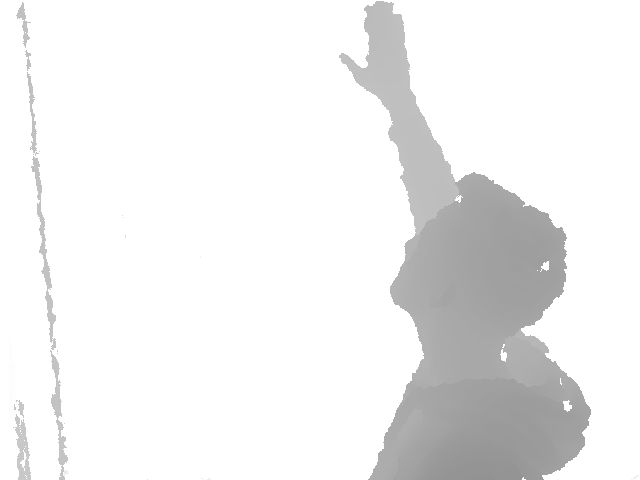hand: (338, 1, 417, 98)
head: (389, 171, 568, 342)
person: (338, 1, 593, 480)
